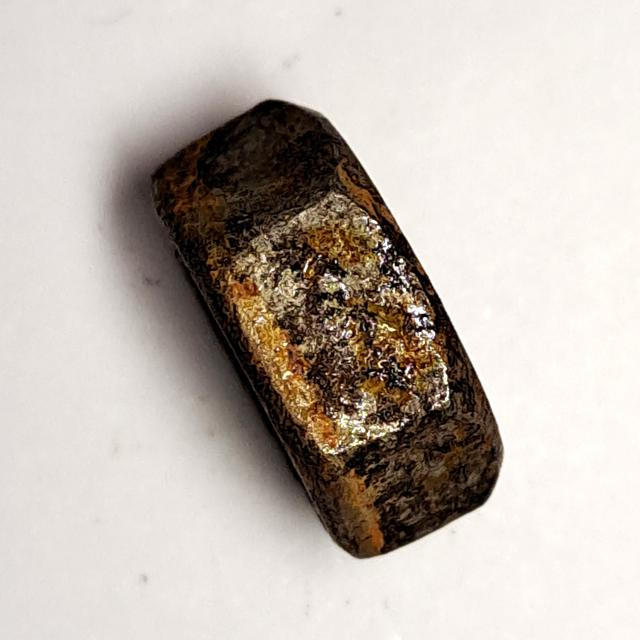Side_Rust: (136, 89, 516, 575)
